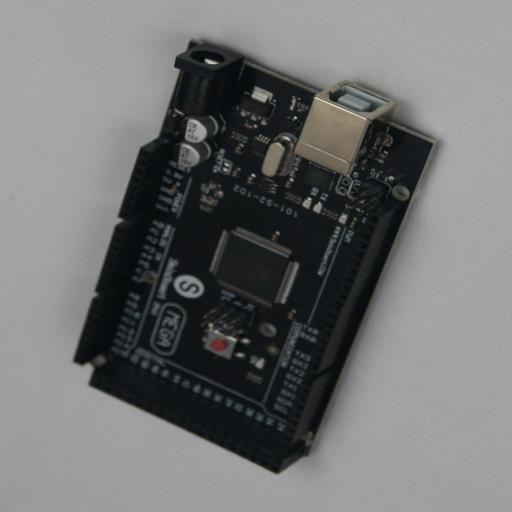Arduino Mega 2560 -Black-: (74, 39, 438, 474)
